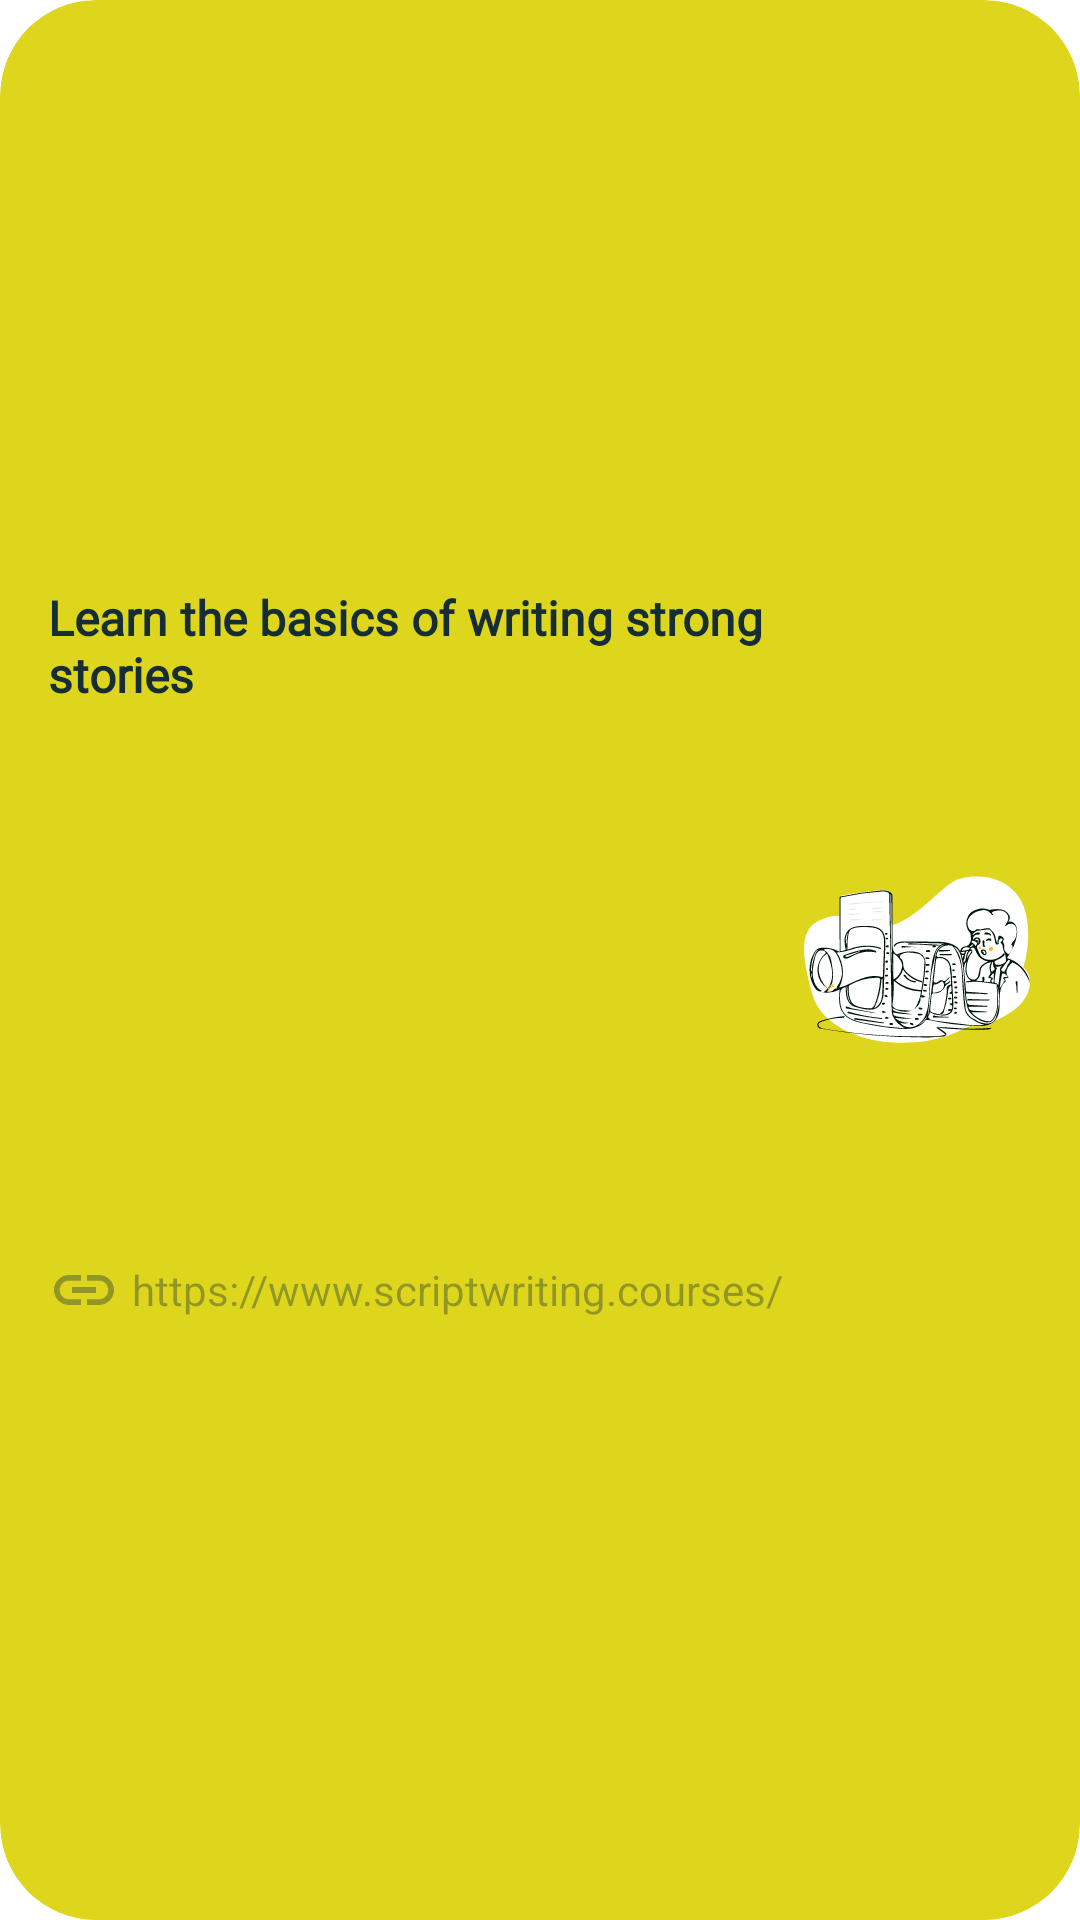

Icons on this 1080×1920 Android screen, each with its box as (x1, y1, x2, y2):
link: (54, 1275, 114, 1305)
pic adv: (804, 876, 1030, 1043)
